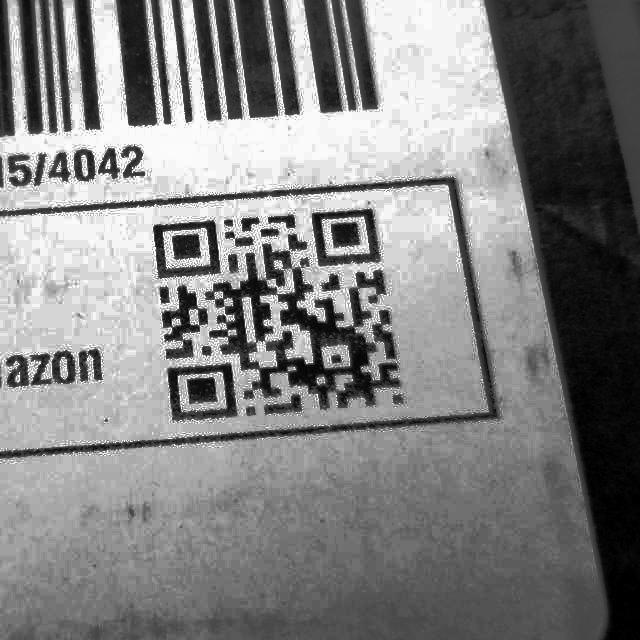qr_code: (143, 193, 416, 440)
